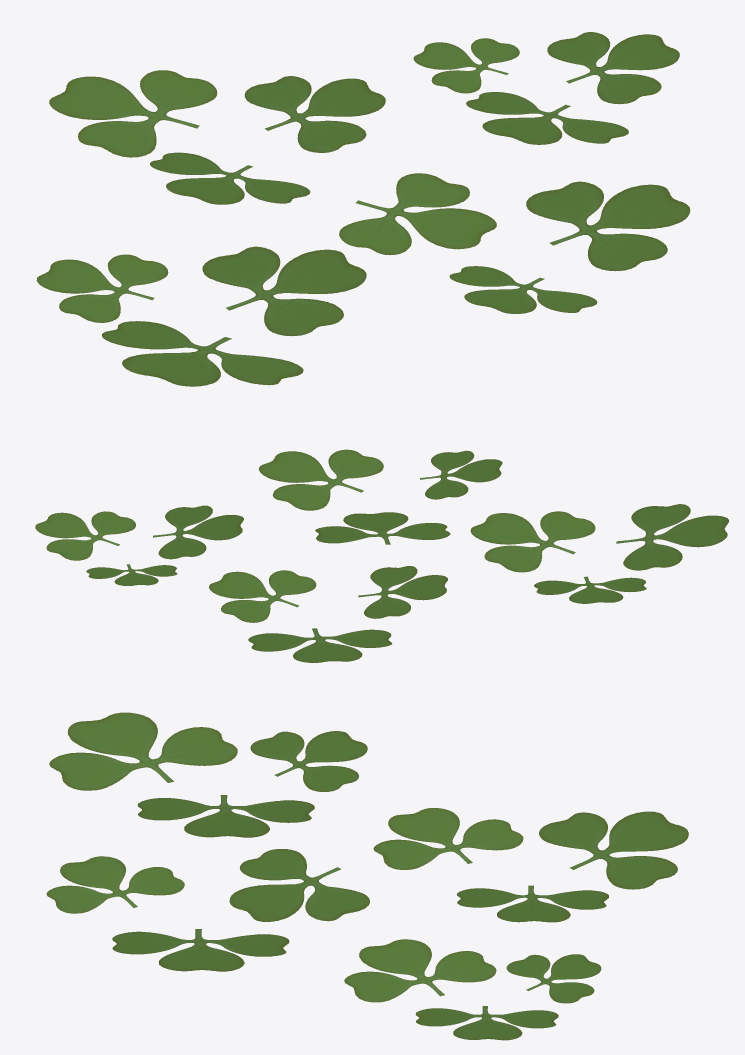
Rendered from Plant05.glb.
The picture shows the model from 3 angles, top to bottom: view 1: azimuth 30°, elevation 25°; view 2: azimuth 150°, elevation 25°; view 3: azimuth 270°, elevation 25°; orthographic projection. The views are drawn at different scales.
Visible parts, largest first — view 1: plant05; view 2: plant05; view 3: plant05.
Boxes of the visible parts, x1=… form: plant05: x1=36, y1=32, x2=690, y2=386; plant05: x1=35, y1=449, x2=728, y2=662; plant05: x1=46, y1=712, x2=688, y2=1040.
Bounding box in the file's own units: 0.7178 × 0.0182 × 0.6411.
1 material, 1 textured.
